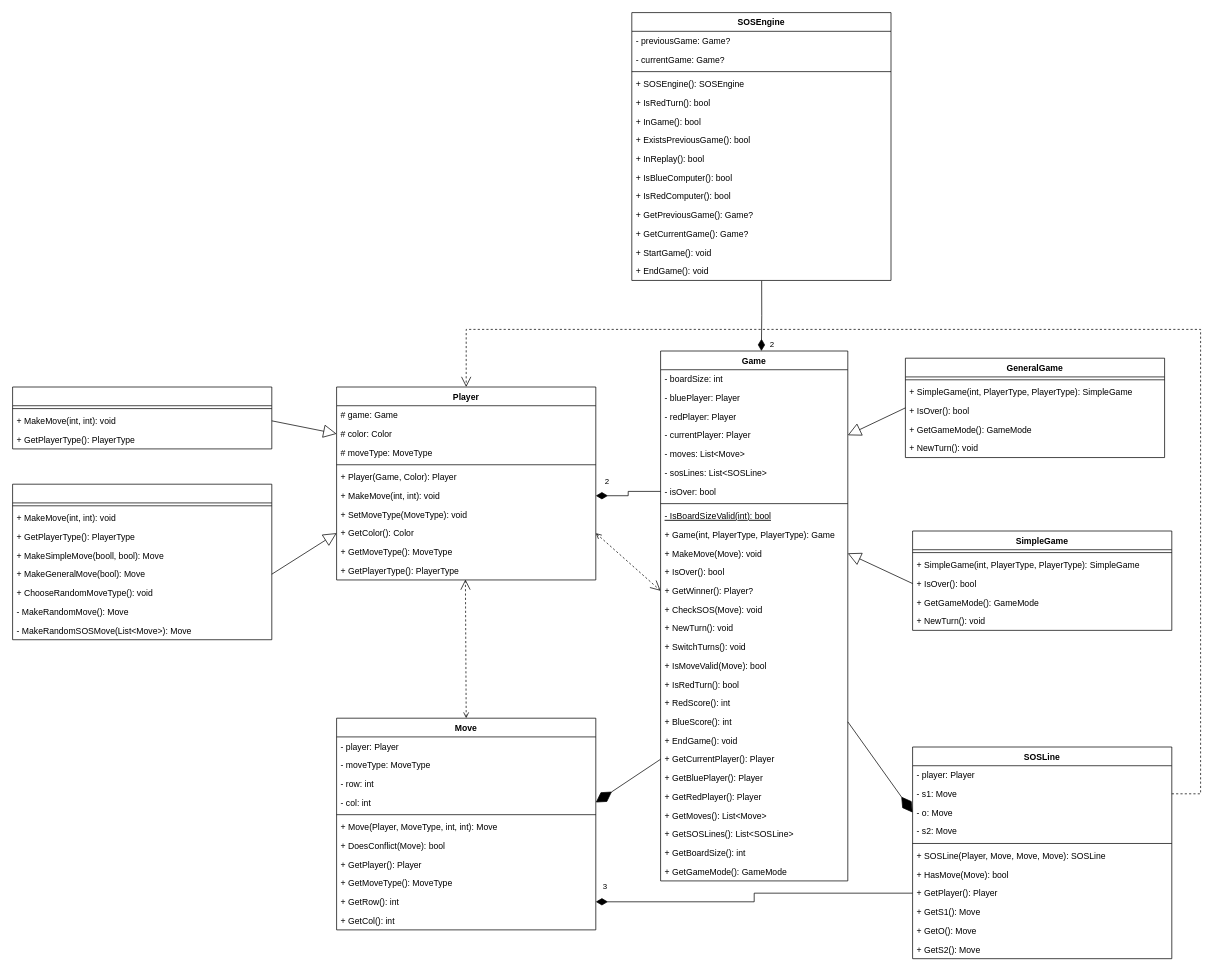
The diagram is 1223 pixels wide and 973 high, and some of its shapes have lost their labels. The box of each missing label's shape, as (x1, y1, x2, y2) in pixels:
ComputerPlayer: (12, 483, 272, 640)
HumanPlayer: (12, 386, 272, 449)
